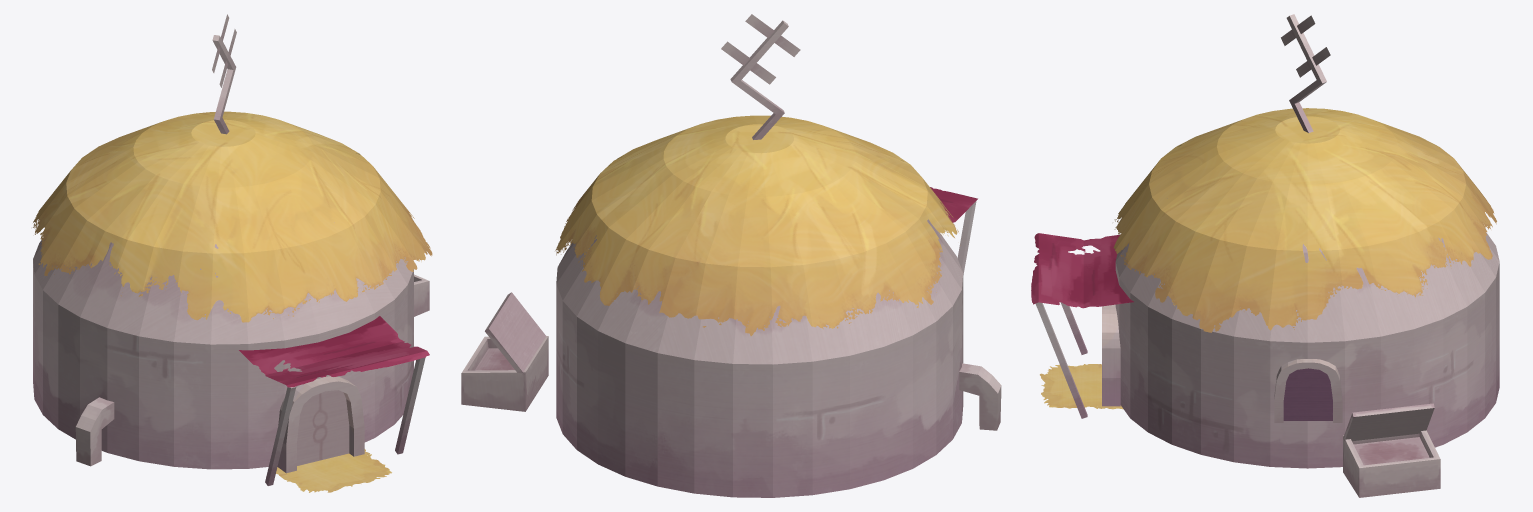
File: building_alonso.fbx
The picture shows the model from 3 angles, left to right: view 1: azimuth 30°, elevation 25°; view 2: azimuth 150°, elevation 25°; view 3: azimuth 270°, elevation 25°; orthographic projection. The views are drawn at different scales.
Parts seen in each view (by area): view 1: Cube; view 2: Cube; view 3: Cube.
Boxes of the visible parts, <box> form: Cube: <box>33,14,432,492</box>; Cube: <box>461,14,1001,497</box>; Cube: <box>1031,14,1499,497</box>.
Bounding box in the file's own units: 1550 × 1322 × 1563.
